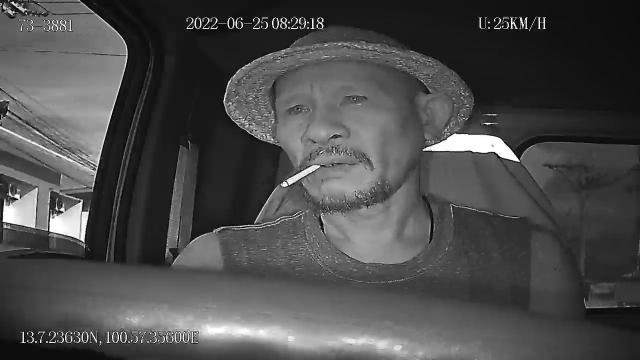SafeDriving: (336, 86, 374, 112), (282, 95, 316, 121)
Smoking: (282, 164, 322, 188)
